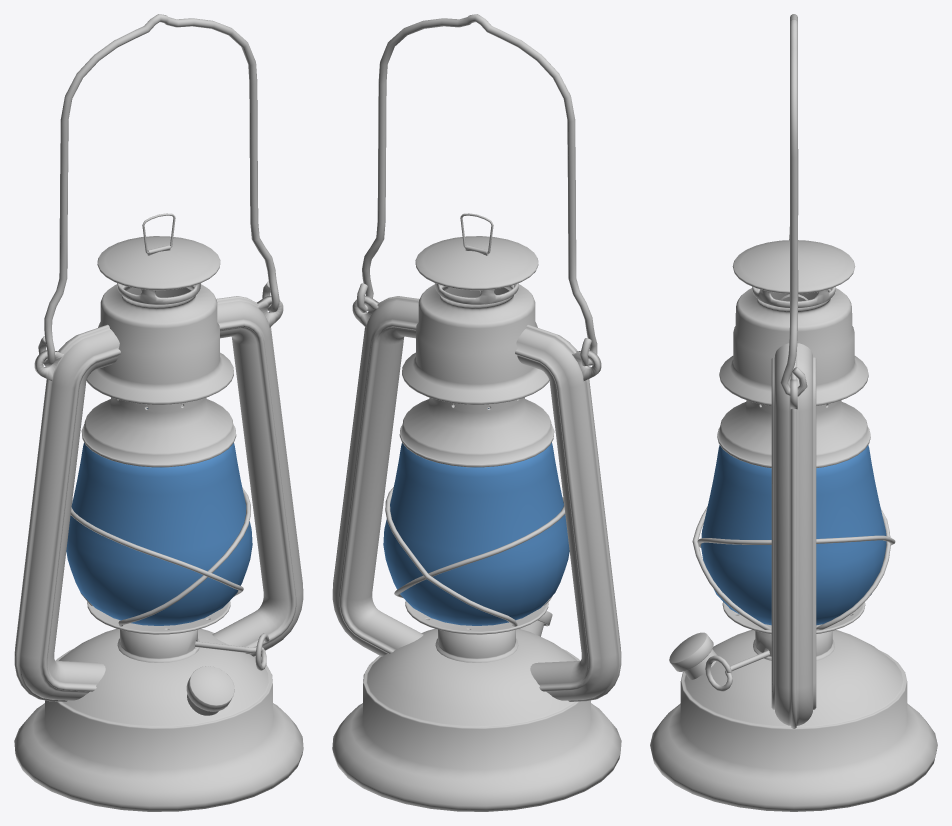
The model's file is Oil Lamp.fbx.
3 renders of one model, left to right at view 1: azimuth 30°, elevation 25°; view 2: azimuth 150°, elevation 25°; view 3: azimuth 270°, elevation 25°, orthographic.
Parts seen in each view (by area): view 1: Oil_Lamp; view 2: Oil_Lamp; view 3: Oil_Lamp.
Boxes of the visible parts, left/top/right/bottom form: Oil_Lamp: left=14, top=14, right=303, bottom=811; Oil_Lamp: left=332, top=14, right=621, bottom=811; Oil_Lamp: left=650, top=14, right=937, bottom=811.
Size of the model in its own units: 19.71 by 48.22 by 17.19.
